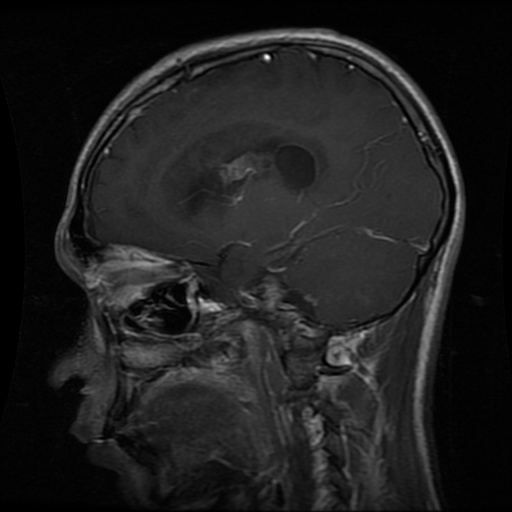glioma: (190, 139, 322, 219)
